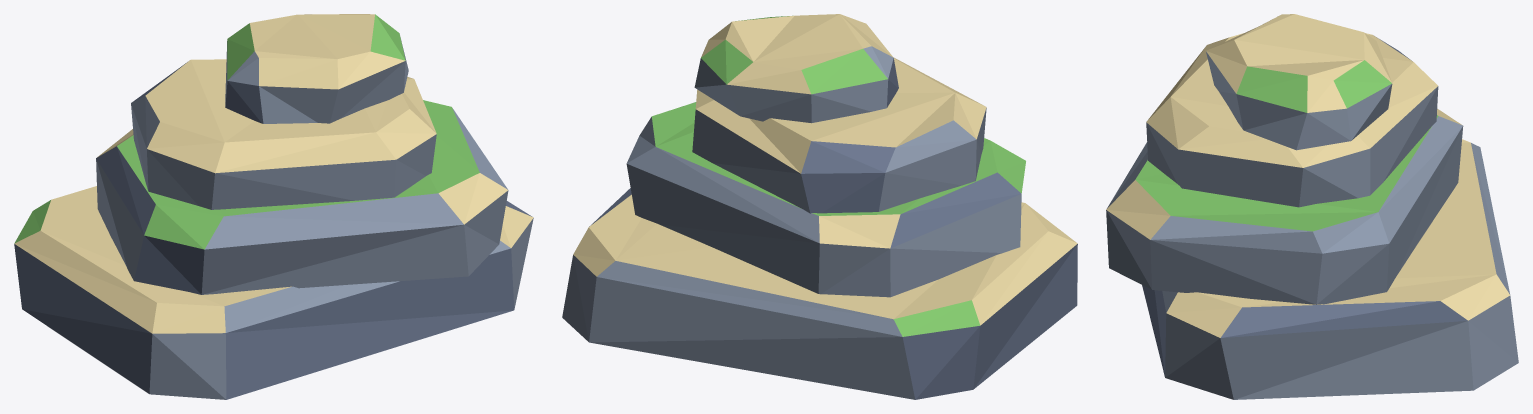
Rendered from rock_slab_stack_reef.fbx.
The picture shows the model from 3 angles, left to right: view 1: azimuth 30°, elevation 25°; view 2: azimuth 150°, elevation 25°; view 3: azimuth 270°, elevation 25°; orthographic projection. The views are drawn at different scales.
Parts seen in each view (by area): view 1: rock_slab_stack_reef; view 2: rock_slab_stack_reef; view 3: rock_slab_stack_reef.
Part boxes in pixels (box(x1,y1,x2,y2)): rock_slab_stack_reef: box(14, 14, 533, 399); rock_slab_stack_reef: box(562, 14, 1077, 399); rock_slab_stack_reef: box(1106, 14, 1518, 399).
Bounding box in the file's own units: 1288 × 769 × 1067.
Materials: 1 (1 with a texture image).
